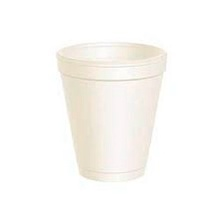paper_cup: (49, 34, 172, 190)
